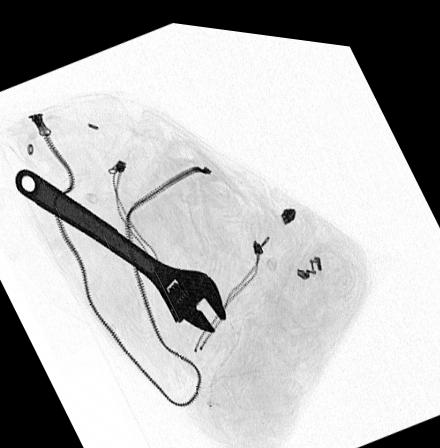Wrench: (12, 167, 228, 327)
